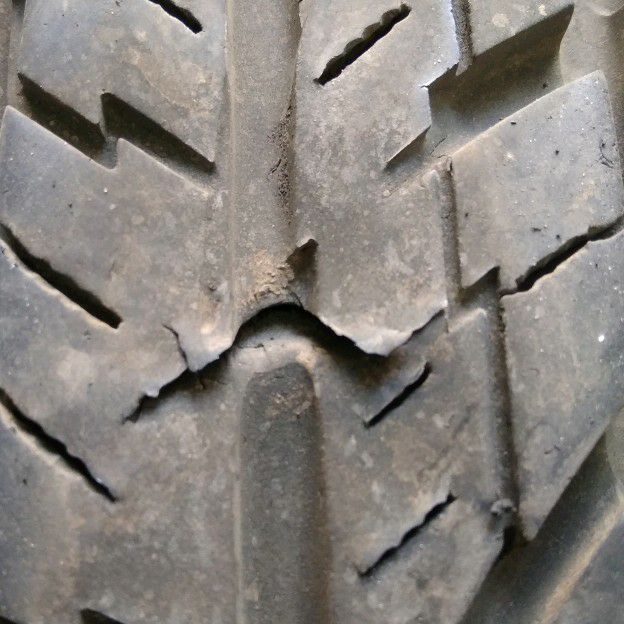tr: (113, 292, 462, 431)
